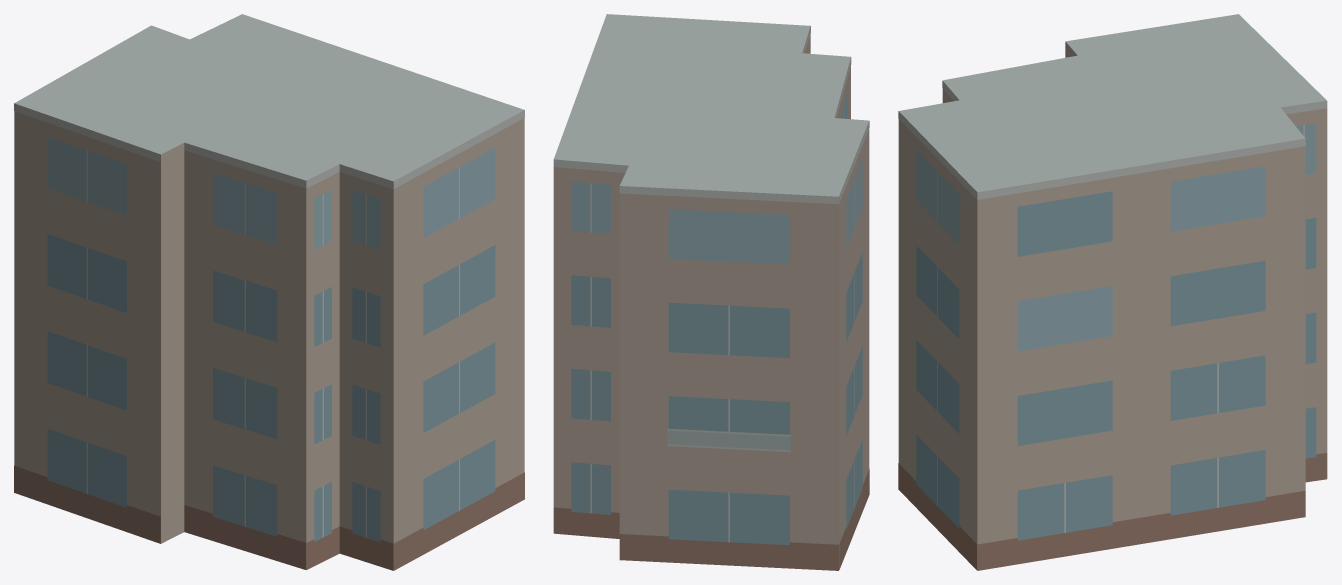
File: survey-upis-32584544.glb
3 views of the same model, side by side, from view 1: azimuth 30°, elevation 25°; view 2: azimuth 150°, elevation 25°; view 3: azimuth 270°, elevation 25° (orthographic). The views are drawn at different scales.
Parts seen in each view (by area): view 1: survey-upis-32584544.tmp; view 2: survey-upis-32584544.tmp; view 3: survey-upis-32584544.tmp.
Boxes of the visible parts, <box> form: survey-upis-32584544.tmp: <box>14,14,524,570</box>; survey-upis-32584544.tmp: <box>553,14,869,570</box>; survey-upis-32584544.tmp: <box>898,14,1327,570</box>.
Size of the model in its own units: 12.34 by 12.2 by 12.53.
